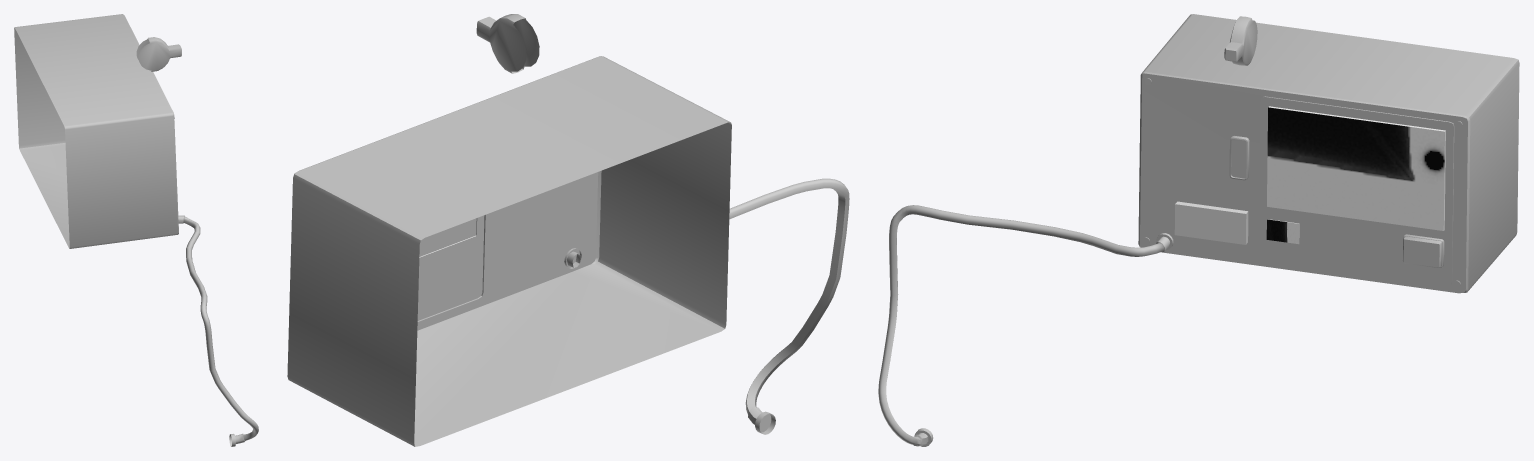
Rendered from ParallaxMod_v2.fbx.
The picture shows the model from 3 angles, left to right: view 1: azimuth 30°, elevation 25°; view 2: azimuth 150°, elevation 25°; view 3: azimuth 270°, elevation 25°; orthographic projection. The views are drawn at different scales.
Visible parts, largest first — view 1: ParallaxMod_v2, ParallaxMod_switch_v2; view 2: ParallaxMod_v2, ParallaxMod_switch_v2; view 3: ParallaxMod_v2, ParallaxMod_switch_v2, ParallaxMod_load_v2.
Part boxes in pixels (x1,y1,x2,y2): ParallaxMod_v2: [14, 14, 258, 446]; ParallaxMod_switch_v2: [136, 37, 181, 71]; ParallaxMod_v2: [287, 56, 849, 446]; ParallaxMod_switch_v2: [476, 14, 539, 73]; ParallaxMod_v2: [878, 14, 1519, 446]; ParallaxMod_switch_v2: [1224, 16, 1257, 65]; ParallaxMod_load_v2: [1403, 236, 1442, 267].
Size of the model in its own units: 1.85 by 3.45 by 4.45.
